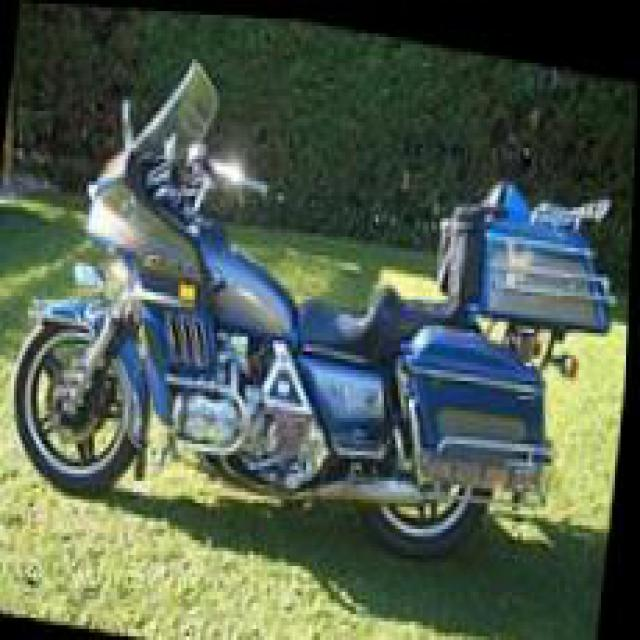Gold Wing: (0, 27, 635, 583)
